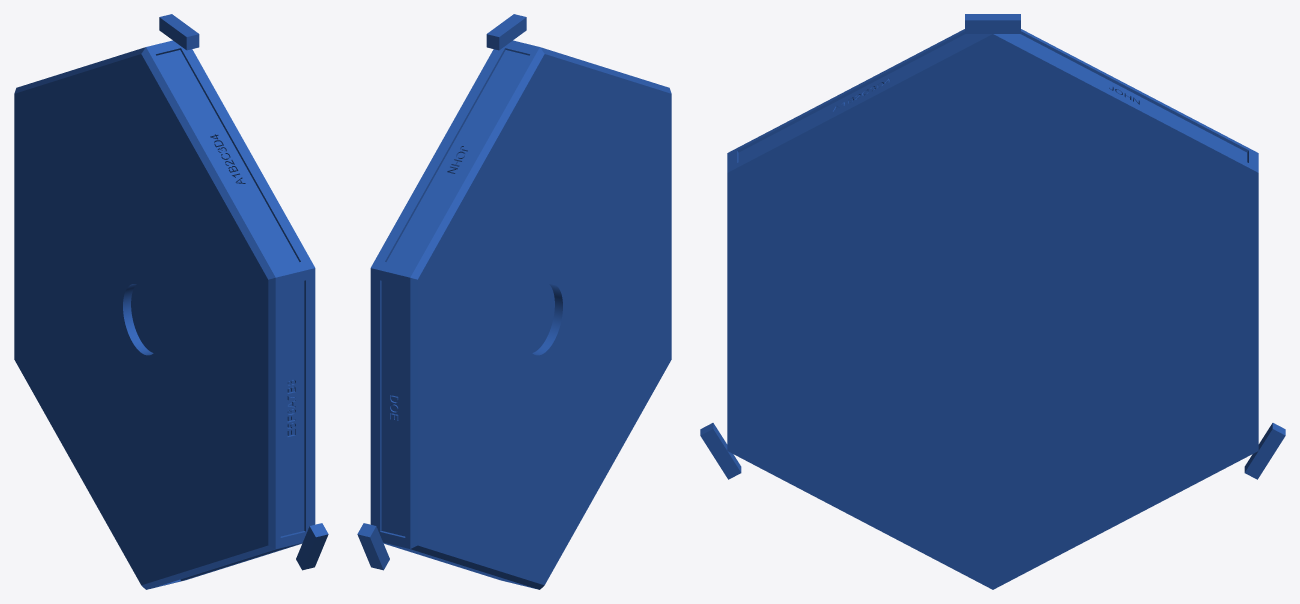
The model's file is core.gltf.
3 renders of one model, left to right at view 1: azimuth 30°, elevation 25°; view 2: azimuth 150°, elevation 25°; view 3: azimuth 270°, elevation 25°, orthographic. The views are drawn at different scales.
Size of the model in its own units: 0.0028 by 0.0335 by 0.0312.
